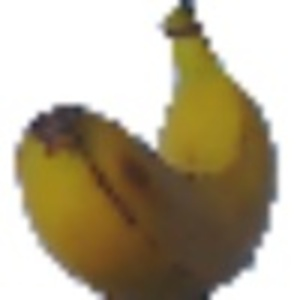banana: (16, 3, 277, 293)
